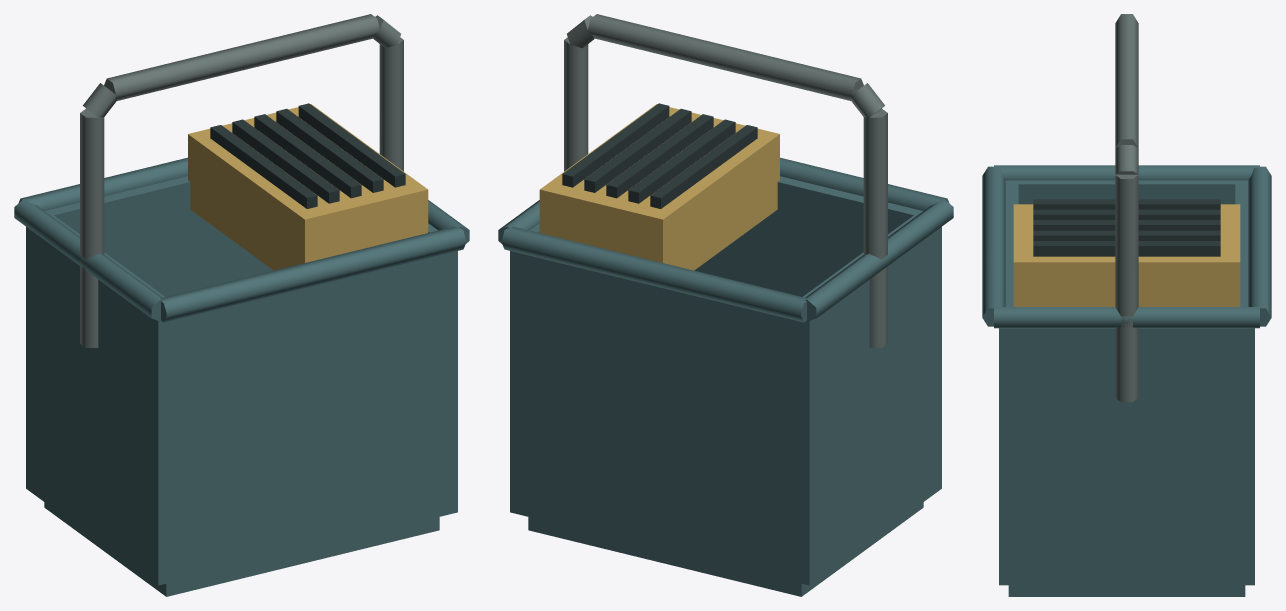
3 renders of one model, left to right at view 1: azimuth 30°, elevation 25°; view 2: azimuth 150°, elevation 25°; view 3: azimuth 270°, elevation 25°, orthographic. The views are drawn at different scales.
Visible parts, largest first — view 1: part-5, part-2, part-10, part-4, part-8, part-18, part-16, part-1, part-9, part-20, part-6, part-3 (+7 smaller); view 2: part-4, part-2, part-10, part-5, part-6, part-18, part-16, part-1, part-9, part-20, part-3, part-8 (+7 smaller); view 3: part-3, part-10, part-7, part-20, part-2, part-9, part-6, part-8, part-18, part-1, part-15, part-11 (+6 smaller).
Part boxes in pixels (<box>): part-5: <box>167,253,448,582</box>; part-2: <box>26,215,175,585</box>; part-10: <box>188,104,428,270</box>; part-4: <box>45,176,273,296</box>; part-8: <box>160,226,466,322</box>; part-18: <box>104,14,379,100</box>; part-16: <box>80,108,104,347</box>; part-1: <box>44,502,439,596</box>; part-9: <box>14,199,162,321</box>; part-20: <box>379,37,403,171</box>; part-6: <box>18,157,187,210</box>; part-3: <box>428,223,457,514</box>; part-4: <box>519,253,800,582</box>; part-2: <box>792,215,941,585</box>; part-10: <box>539,104,779,270</box>; part-5: <box>694,176,922,296</box>; part-6: <box>501,226,807,322</box>; part-18: <box>588,14,863,100</box>; part-16: <box>863,108,887,347</box>; part-1: <box>528,502,923,596</box>; part-9: <box>805,199,953,321</box>; part-20: <box>564,37,588,171</box>; part-3: <box>510,223,539,514</box>; part-8: <box>780,157,949,210</box>; part-3: <box>999,328,1254,585</box>; part-10: <box>1013,204,1240,306</box>; part-7: <box>994,307,1259,328</box>; part-20: <box>1115,174,1138,402</box>; part-2: <box>1005,180,1248,204</box>; part-9: <box>994,165,1259,180</box>; part-6: <box>1248,166,1271,326</box>; part-8: <box>982,166,1005,326</box>; part-18: <box>1115,14,1138,147</box>; part-1: <box>1008,585,1245,596</box>; part-15: <box>1033,241,1220,256</box>; part-11: <box>1033,199,1220,209</box>.
Bounding box in the file's own units: 0.3608 × 0.5104 × 0.294.
